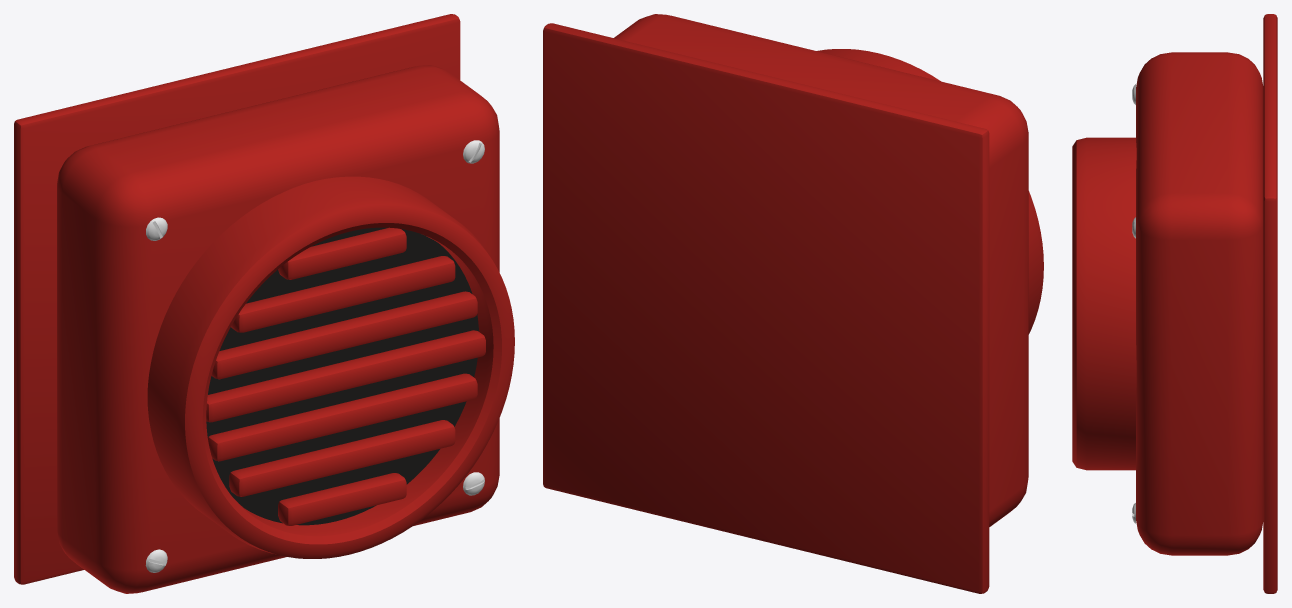
File: Kit_AlarmExit_Horn.fbx
3 renders of one model, left to right at view 1: azimuth 30°, elevation 25°; view 2: azimuth 150°, elevation 25°; view 3: azimuth 270°, elevation 25°, orthographic. The views are drawn at different scales.
Visible parts, largest first — view 1: Kit_AlarmExit_Horn_LOD0; view 2: Kit_AlarmExit_Horn_LOD0; view 3: Kit_AlarmExit_Horn_LOD0.
Boxes of the visible parts, <box> form: Kit_AlarmExit_Horn_LOD0: <box>14,14,514,593</box>; Kit_AlarmExit_Horn_LOD0: <box>543,14,1043,593</box>; Kit_AlarmExit_Horn_LOD0: <box>1072,14,1277,593</box>.
Size of what is drawn, in the model's own units: 0.124 by 0.124 by 0.058.
